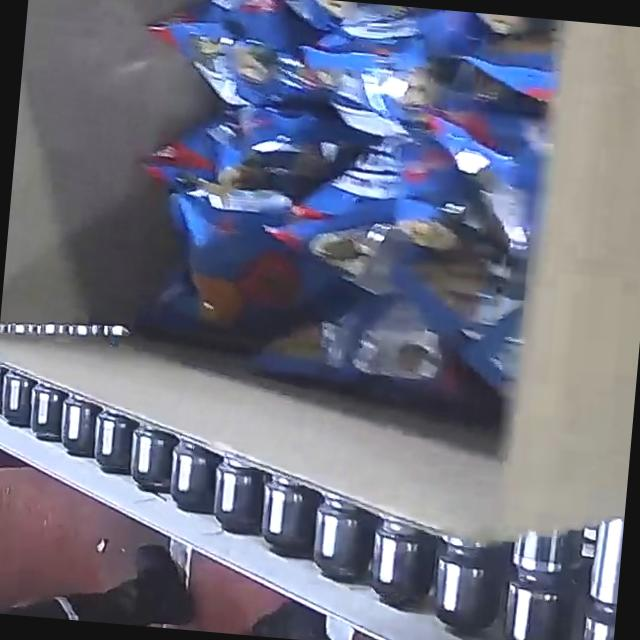paprika: (110, 0, 569, 402)
